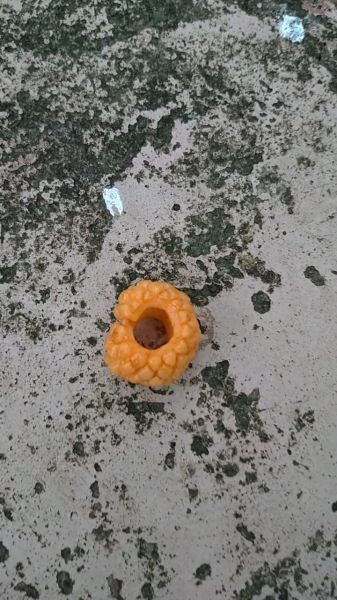eggs: (95, 269, 206, 391)
